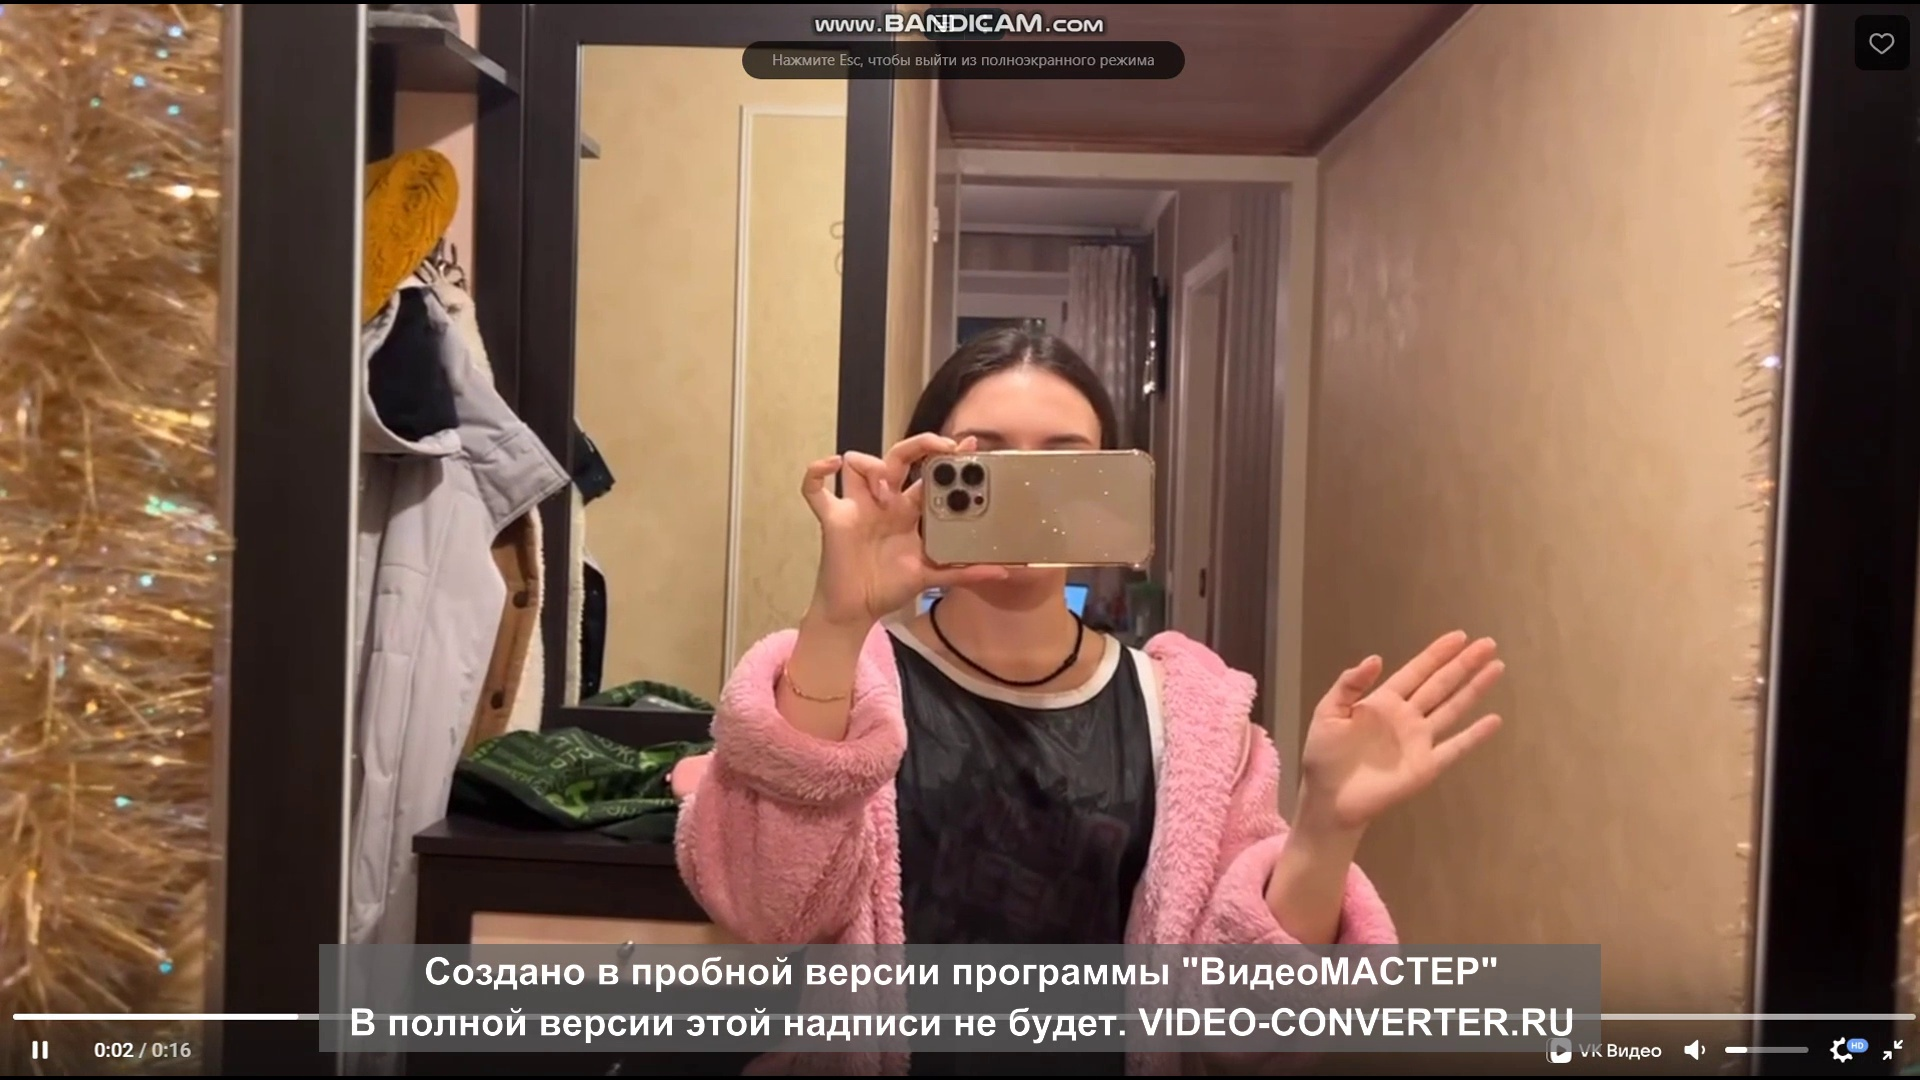Ладонь: (1300, 629, 1509, 827)
